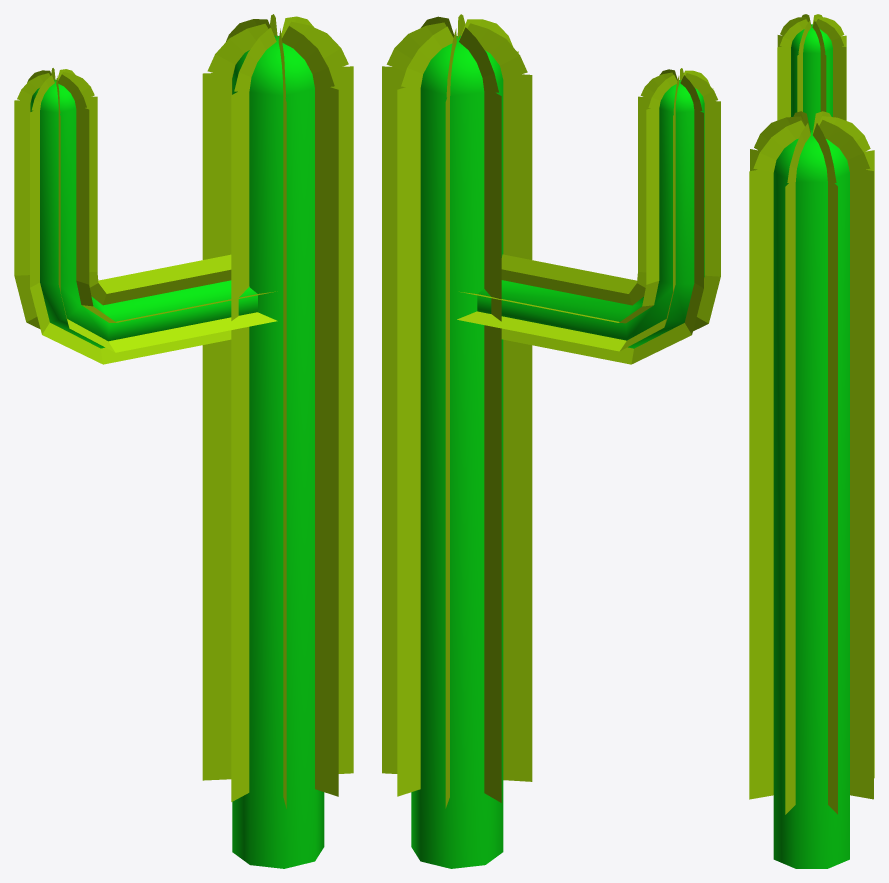
File: Cactus2.gltf
3 views of the same model, side by side, from view 1: azimuth 30°, elevation 25°; view 2: azimuth 150°, elevation 25°; view 3: azimuth 270°, elevation 25° (orthographic). The views are drawn at different scales.
Parts seen in each view (by area): view 1: Cactus_Tall_4; view 2: Cactus_Tall_4; view 3: Cactus_Tall_4.
Part boxes in pixels (x1,y1,x2,y2): Cactus_Tall_4: [14, 14, 353, 868]; Cactus_Tall_4: [382, 14, 720, 868]; Cactus_Tall_4: [749, 14, 874, 868].
Bounding box in the file's own units: 0.8731 × 2.19 × 0.3367.
